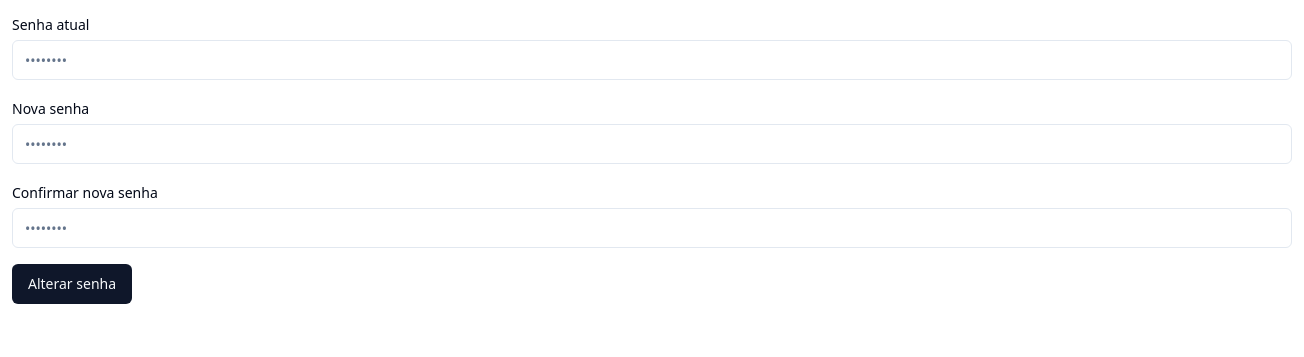
Test: PasswordForm › shows success message after save
This screenshot has width=1304, height=357.
Type "senhaAtual" into the password field labelled "Senha atual".
click(652, 60); type("senhaAtual")  # box [12,40,1292,80]
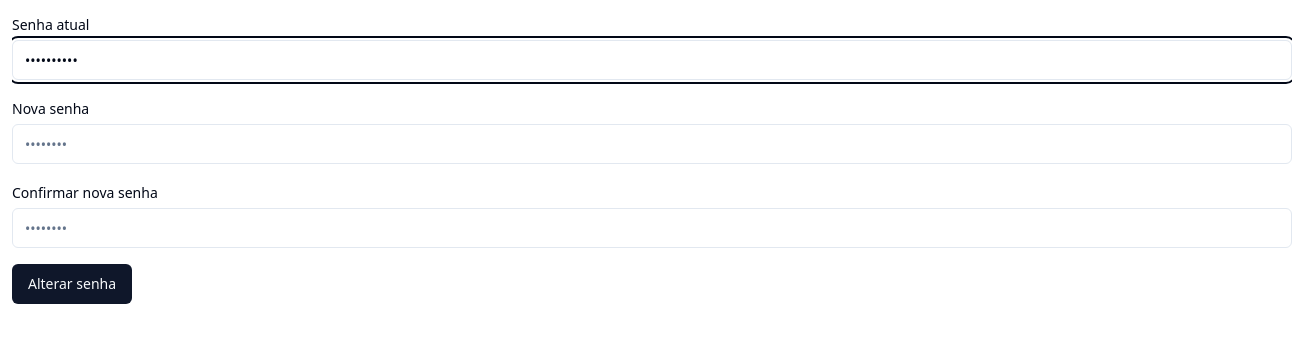
Type "novaSenha123" into the password field labelled "Nova senha".
click(652, 144); type("novaSenha123")  # box [12,124,1292,164]
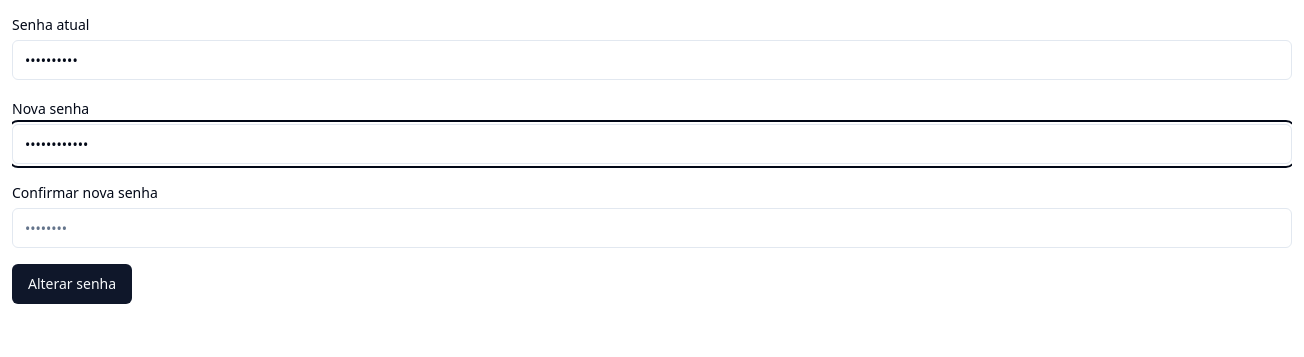
Type "novaSenha123" into the password field labelled "Confirmar nova senha".
click(652, 228); type("novaSenha123")  # box [12,208,1292,248]
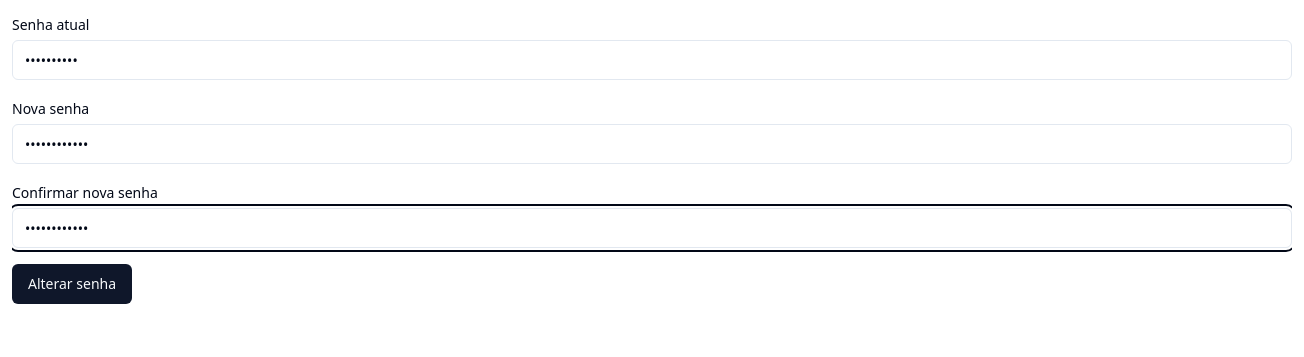
Click the button "Alterar senha".
click(72, 284)  # box [12,264,132,304]
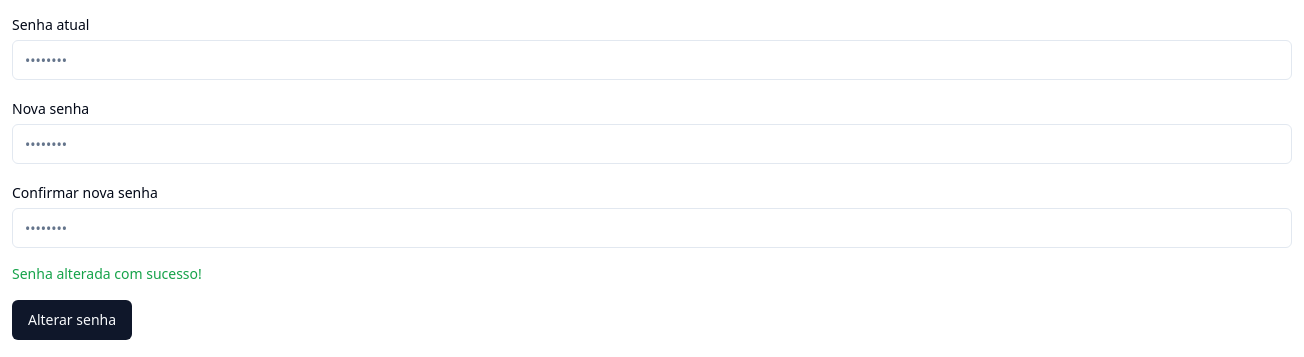
Check: the text "Senha alterada com sucesso!" is shown, box [12,264,202,283]
